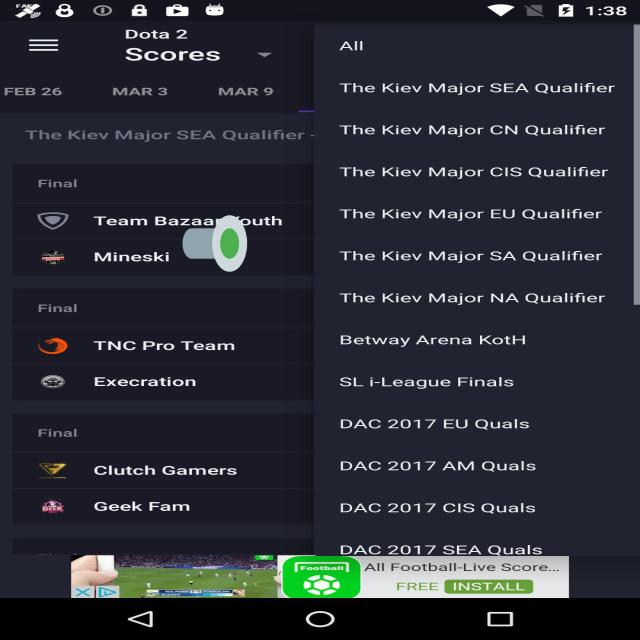social proof: (183, 191, 247, 296)
